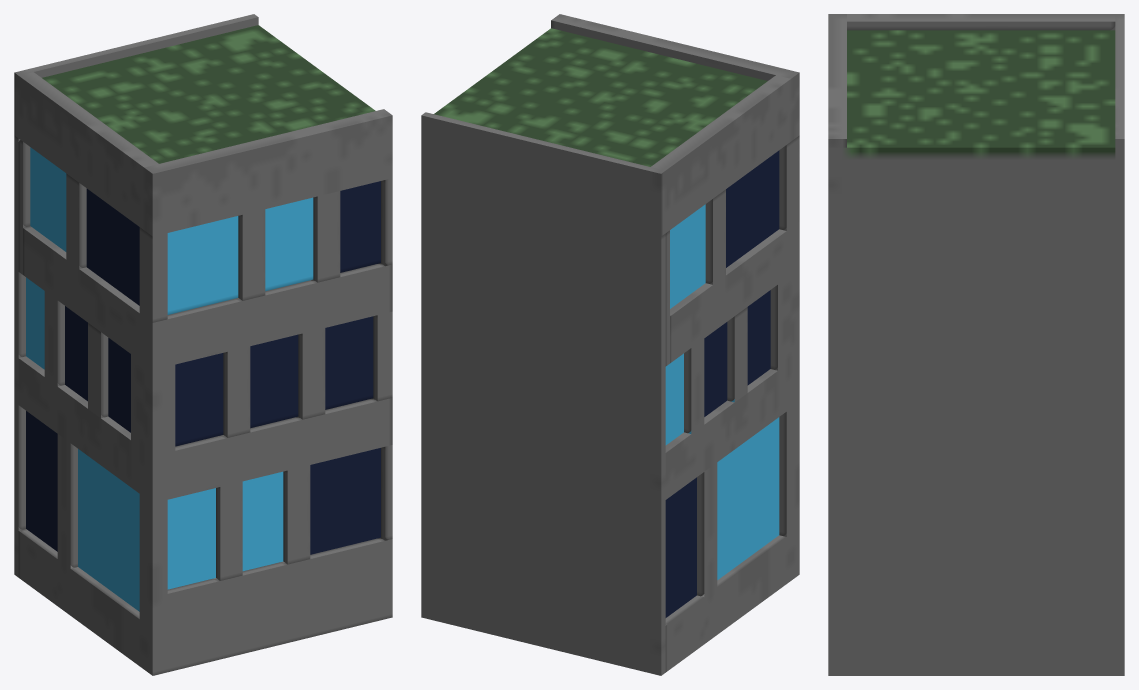
File: BUDYNEK_Z_TRAWĄ_BEZ_DZW.dae
3 views of the same model, side by side, from view 1: azimuth 30°, elevation 25°; view 2: azimuth 150°, elevation 25°; view 3: azimuth 270°, elevation 25° (orthographic). The views are drawn at different scales.
Parts seen in each view (by area): view 1: Content; view 2: Content; view 3: Content.
Boxes of the visible parts, x1=… form: Content: x1=14, y1=14, x2=392, y2=675; Content: x1=421, y1=14, x2=799, y2=675; Content: x1=828, y1=14, x2=1124, y2=675.
Bounding box in the file's own units: 32 × 64 × 32.
1 material, 1 textured.
